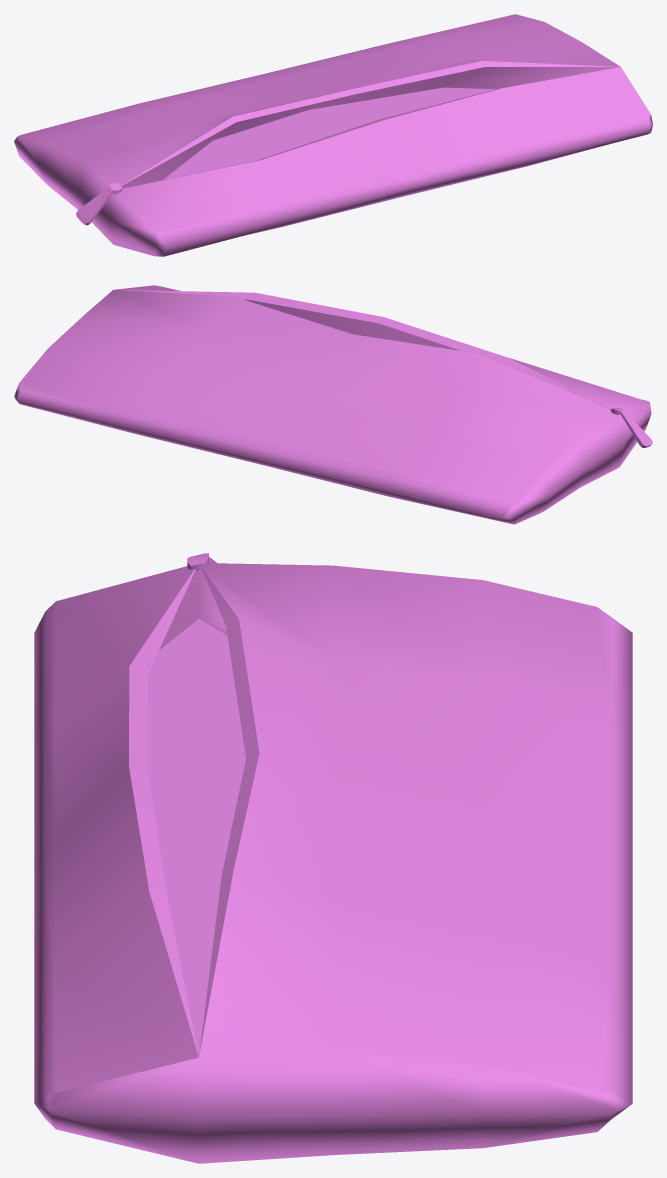
File: Cartuchera 2.fbx
3 renders of one model, top to bottom at view 1: azimuth 30°, elevation 25°; view 2: azimuth 150°, elevation 25°; view 3: azimuth 270°, elevation 25°, orthographic. The views are drawn at different scales.
Parts seen in each view (by area): view 1: Cartuchera_2; view 2: Cartuchera_2; view 3: Cartuchera_2.
Boxes of the visible parts, x1=… form: Cartuchera_2: x1=14, y1=14, x2=652, y2=256; Cartuchera_2: x1=14, y1=285, x2=652, y2=524; Cartuchera_2: x1=34, y1=553, x2=632, y2=1163.
Size of the model in its own units: 0.2681 by 0.0485 by 0.1284.
